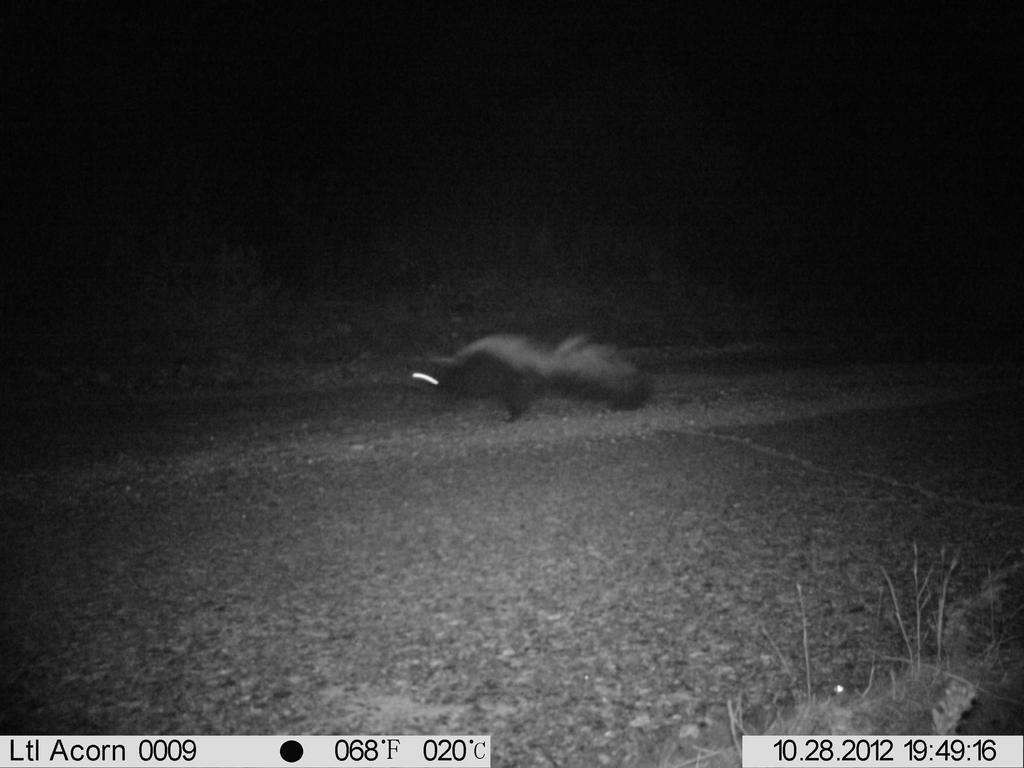skunk: (402, 301, 658, 432)
